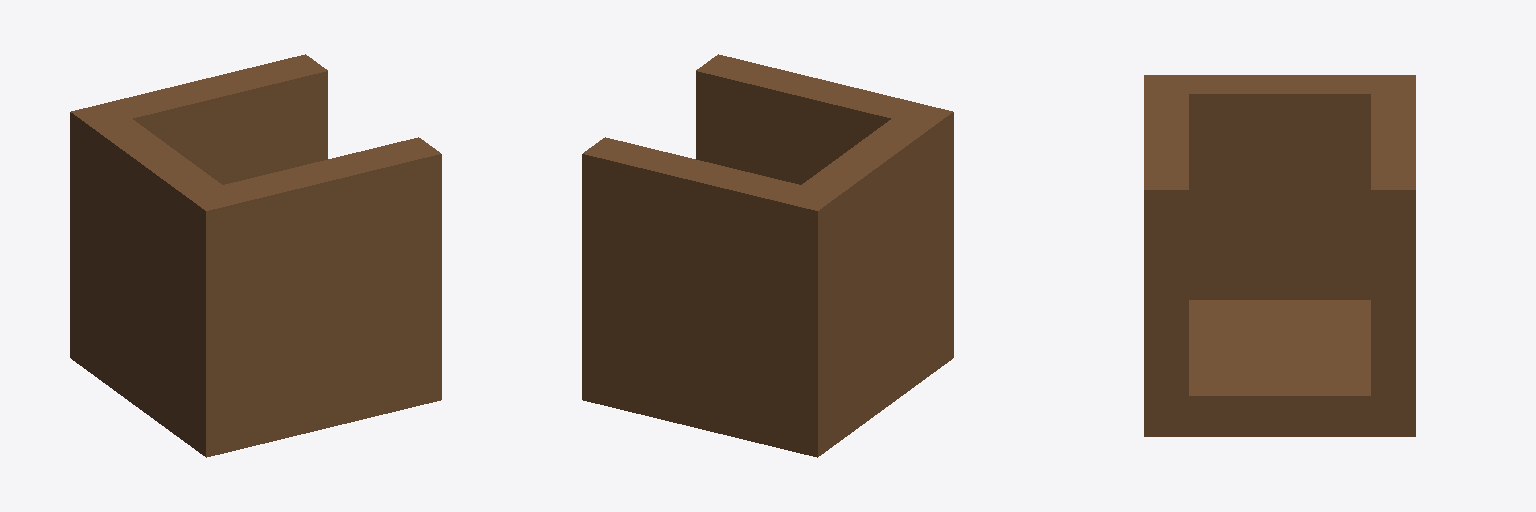
3 renders of one model, left to right at view 1: azimuth 30°, elevation 25°; view 2: azimuth 150°, elevation 25°; view 3: azimuth 270°, elevation 25°, orthographic.
Visible parts, largest first — view 1: box; view 2: box; view 3: box.
Boxes of the visible parts, x1,y1,x2,y2 form: box: [70, 54, 441, 457]; box: [582, 54, 953, 457]; box: [1144, 75, 1415, 436].
Size of the model in its own units: 0.6 by 0.6 by 0.6.
Materials: 1 (1 with a texture image).